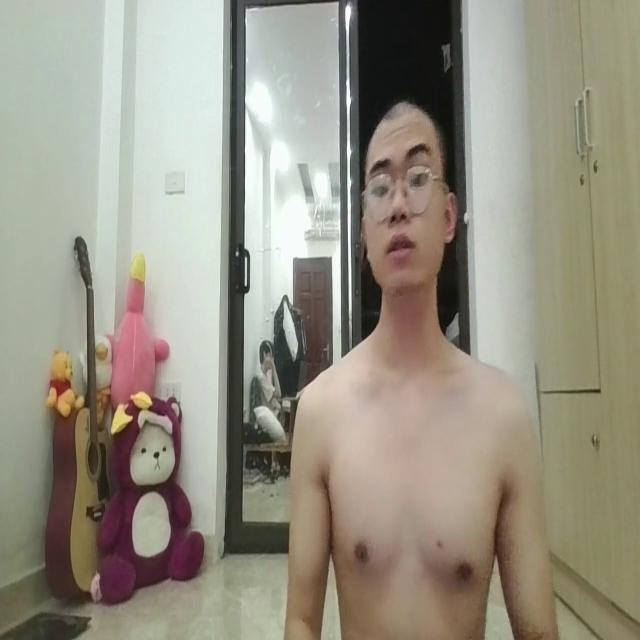student: (275, 73, 575, 640)
